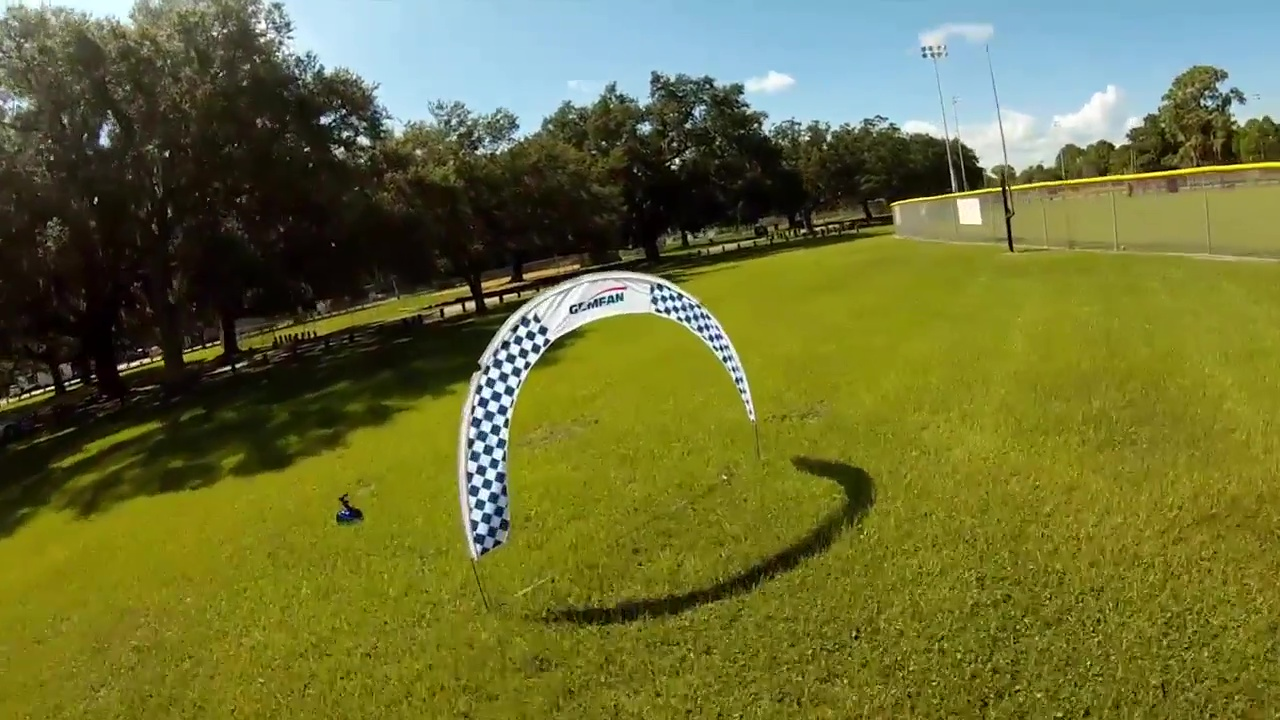gate: (453, 269, 760, 554)
